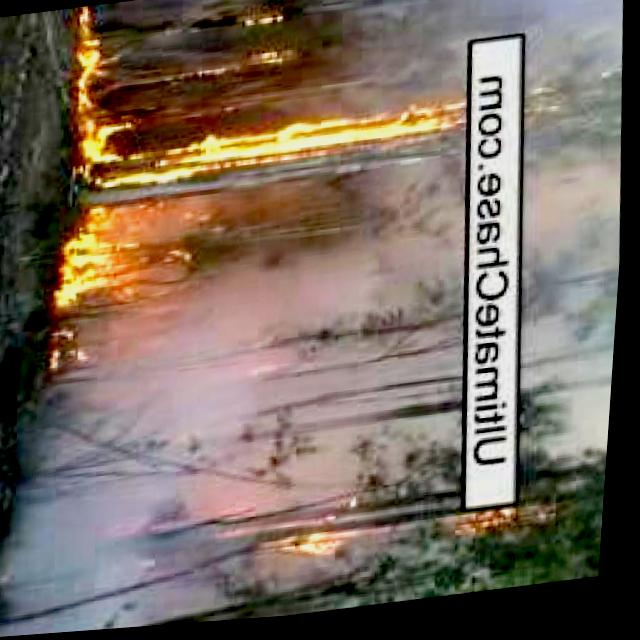helmet: (44, 6, 166, 335), (147, 106, 472, 182), (440, 503, 544, 552), (281, 519, 366, 569), (239, 43, 296, 80), (237, 11, 300, 35)
no_helmet: (129, 161, 480, 527), (0, 345, 272, 639), (501, 0, 640, 461)
